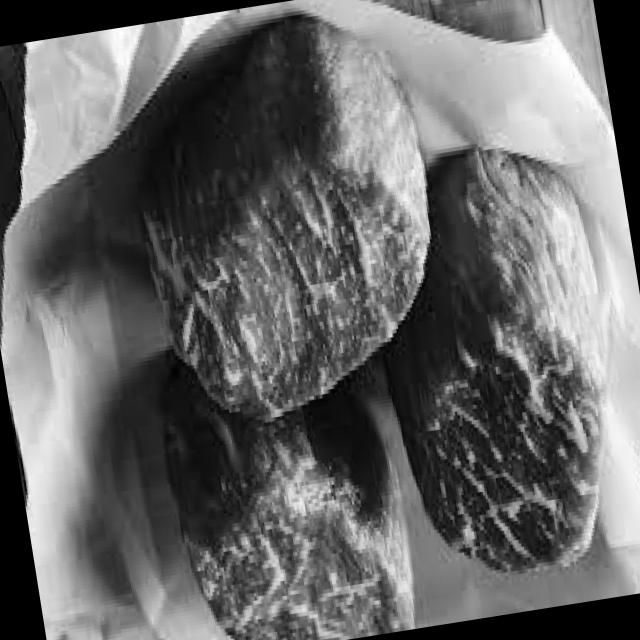beef tenderloin steak: (118, 18, 457, 429), (396, 176, 620, 576), (157, 373, 421, 640)
